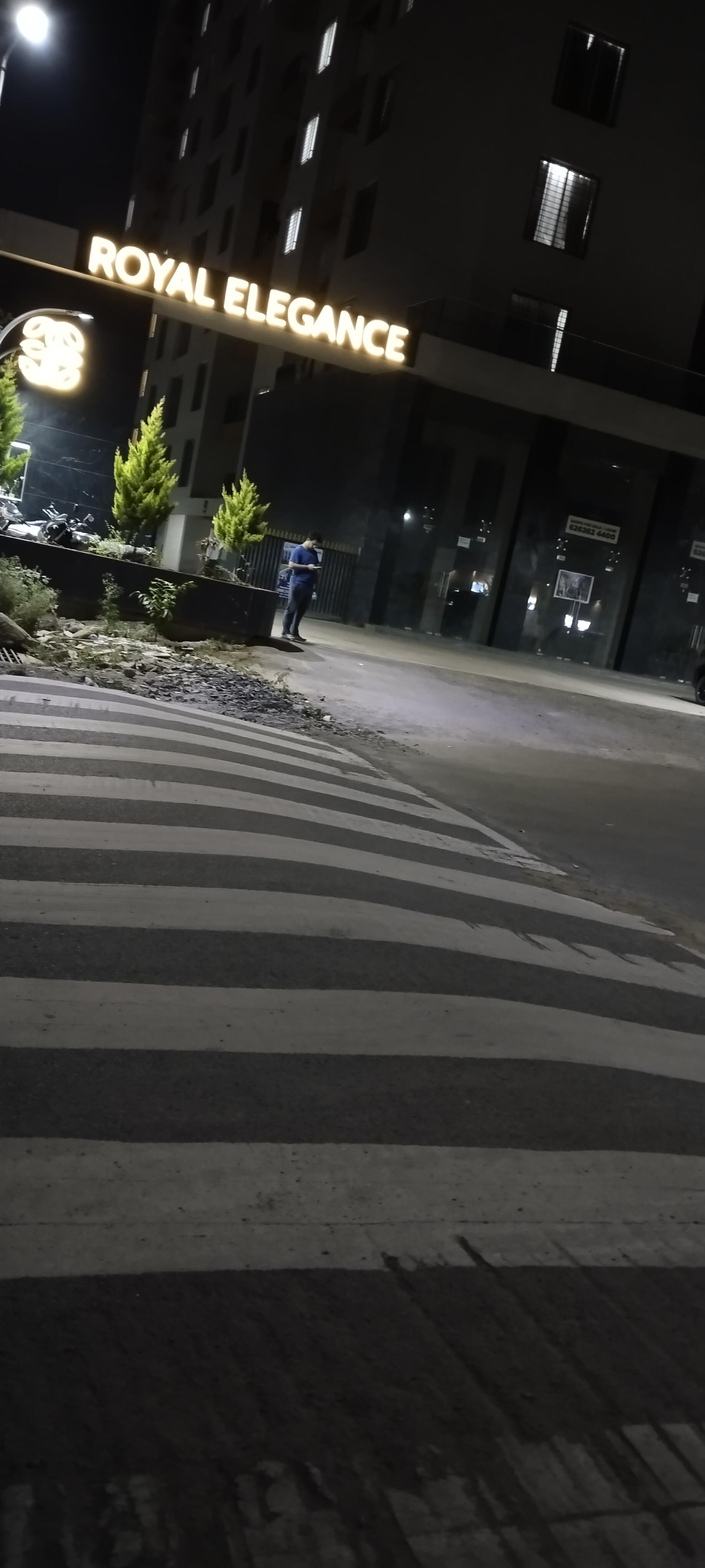crosswalk: (0, 700, 705, 1295)
